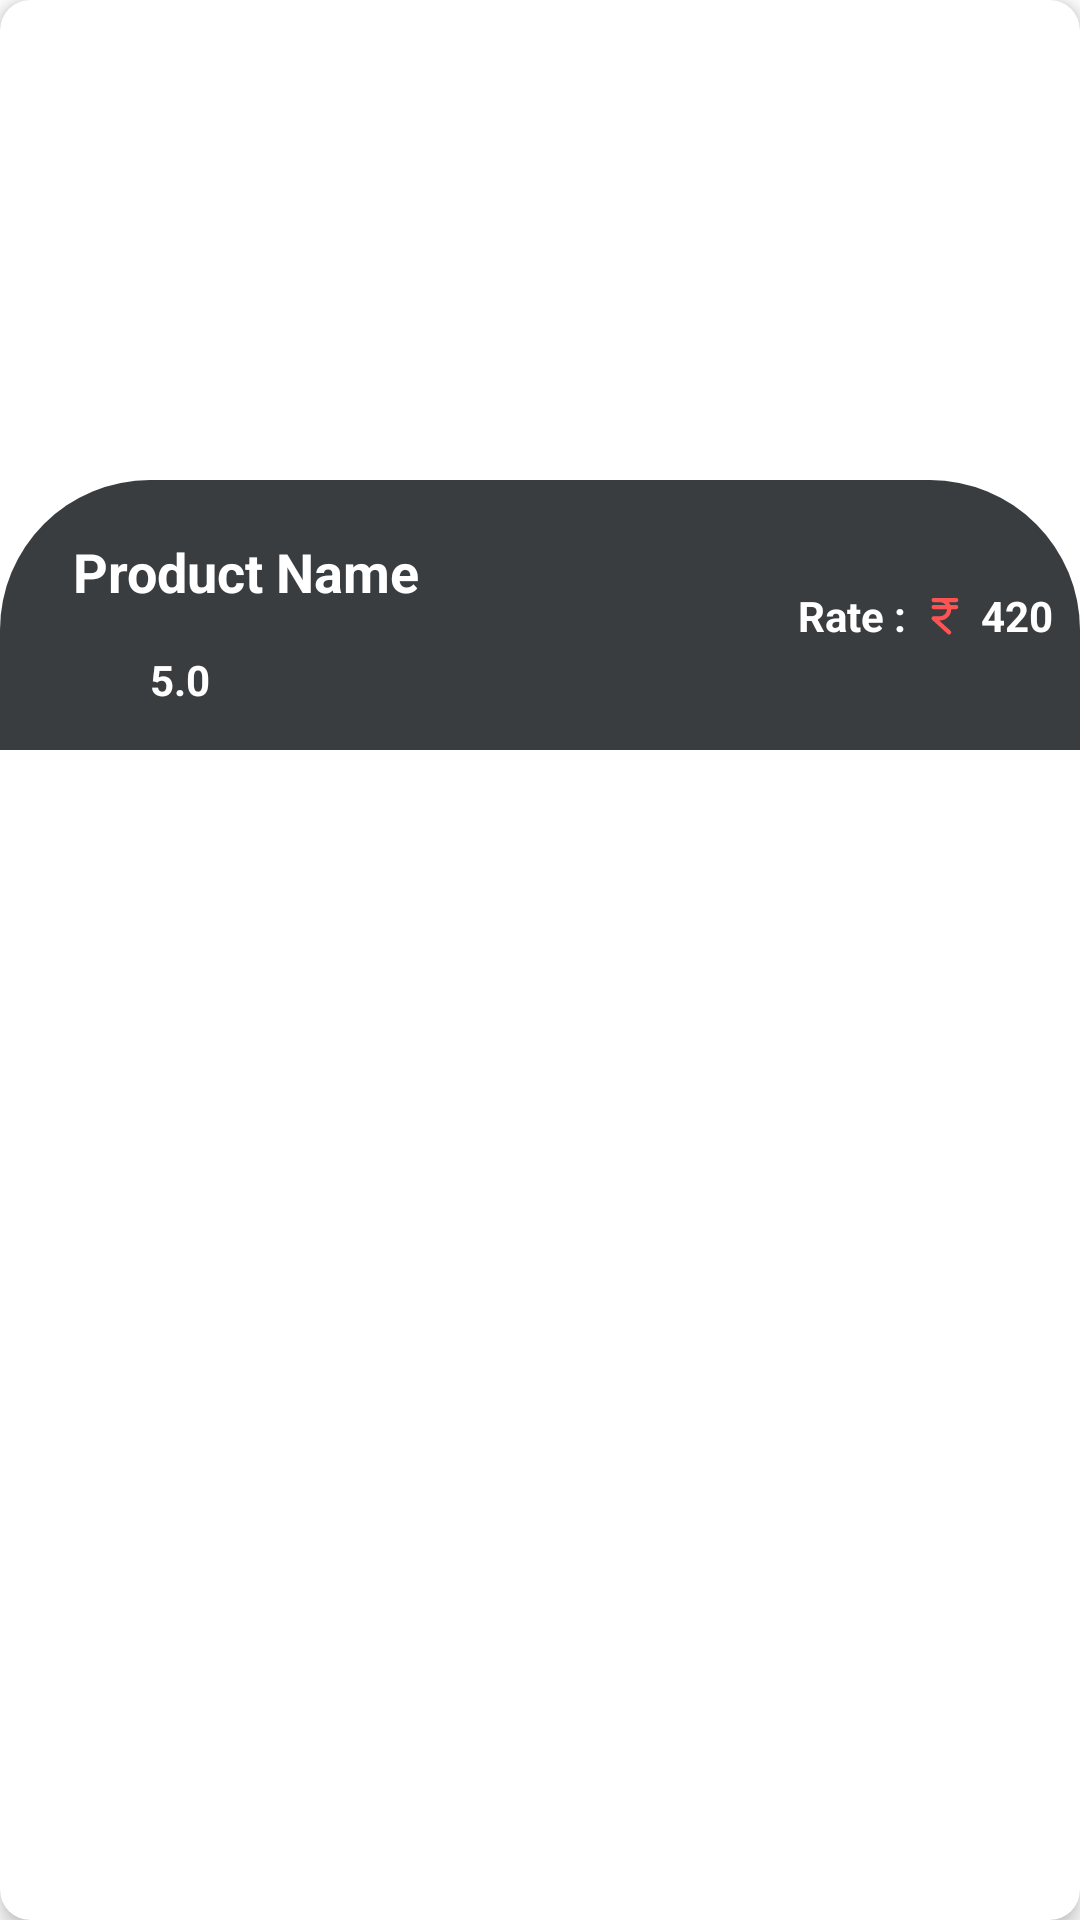

Icon bounding boxes for this 1080×1920 phone screenshot, format (x1, y1, x2, y2):
inr: (931, 598, 959, 635)
